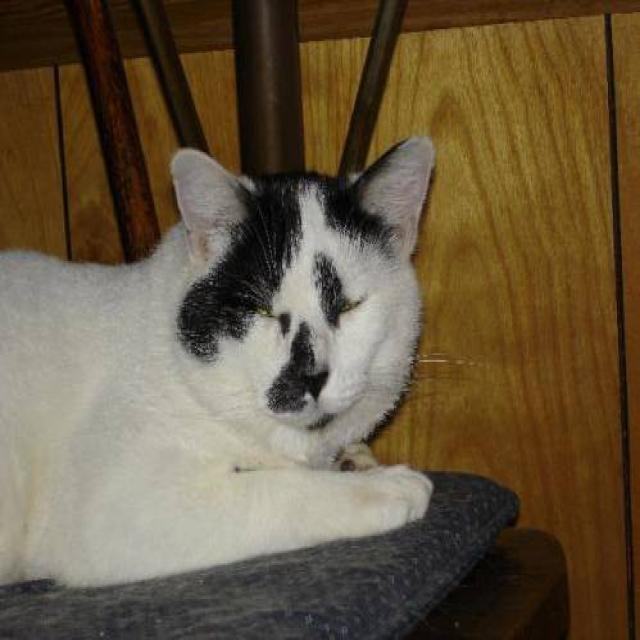cat: (0, 133, 436, 591)
